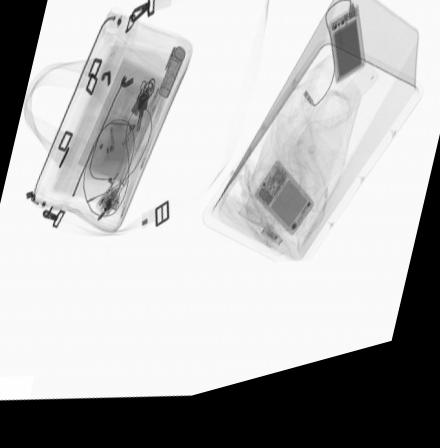Powerbank: (326, 20, 366, 102)
